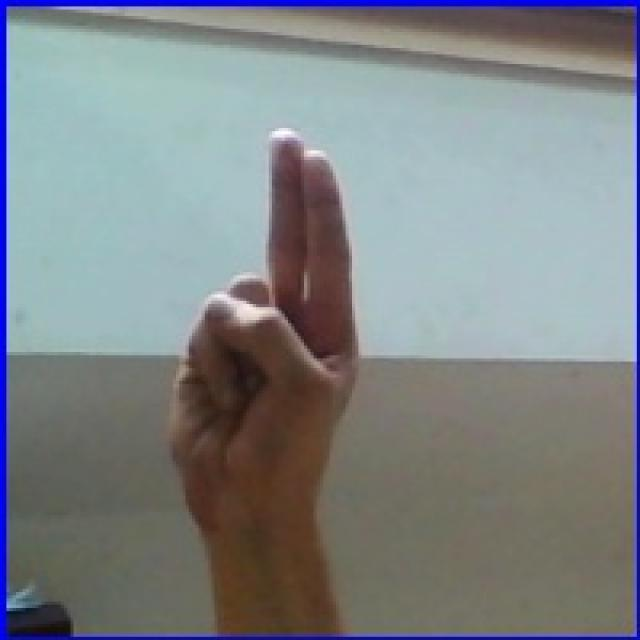Letra-U: (133, 118, 399, 554)
